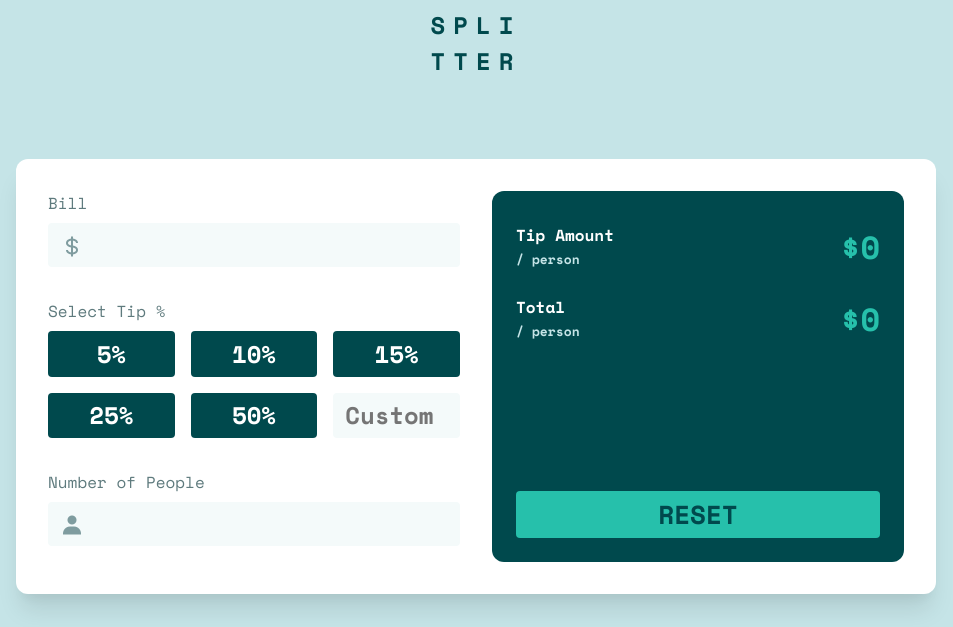
it: Calculate total amount & tip when bill, numOfPpl are changed and tipBtn is clicked
The image size is (953, 627).
In the number field with test id "bill-input": (254, 245) [48,223,460,267], type "2000"
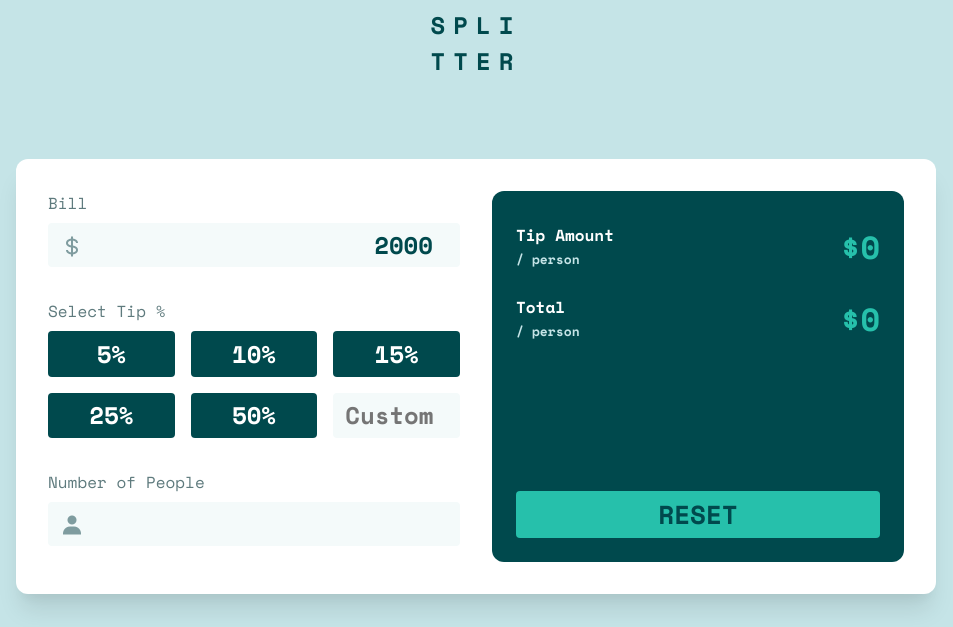
In the number field with test id "ppl-input": (254, 524) [48,502,460,546], type "2"
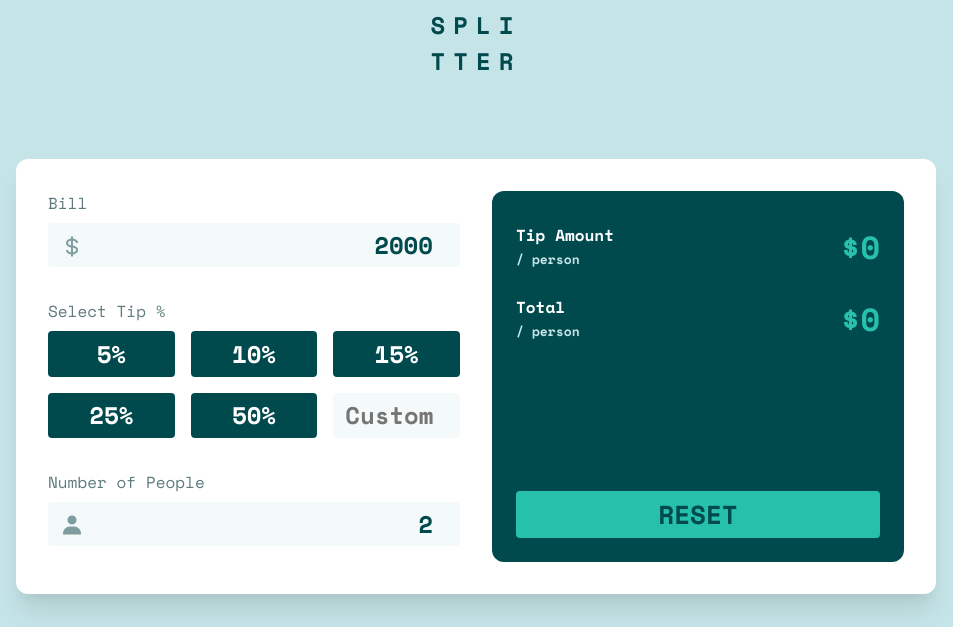
Click the button "5%": (111, 354) [48,331,175,377]
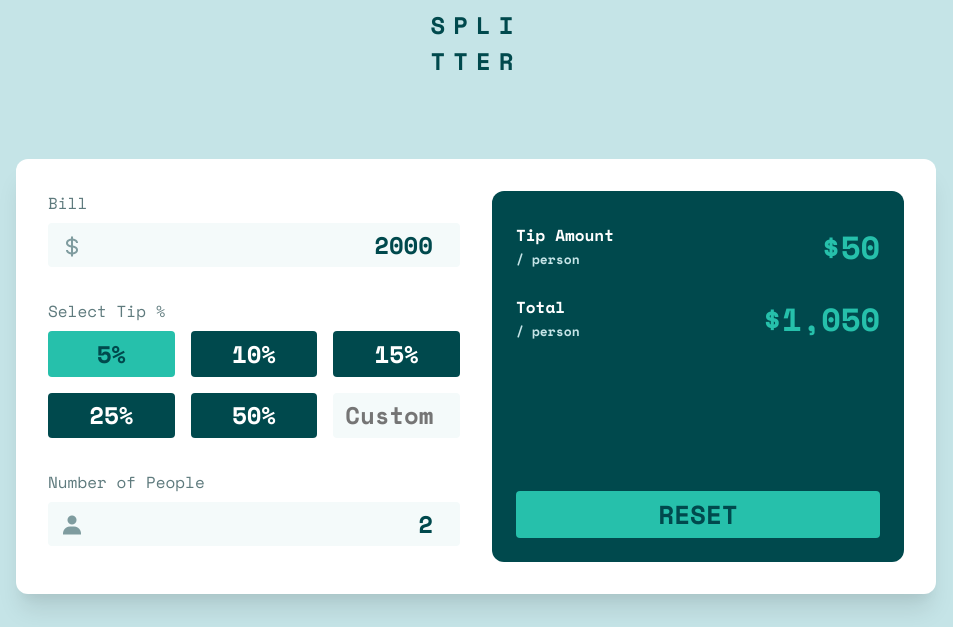
Now the text with test id "total-amount" shows "1,050", box [782,295,880,343]
Now the text with test id "tip-amount" shows "50", box [841,223,880,271]
